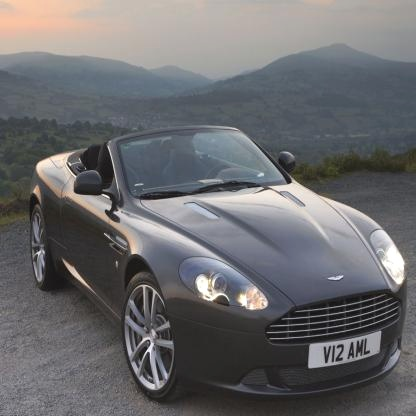Vehicle: (28, 123, 408, 404)
